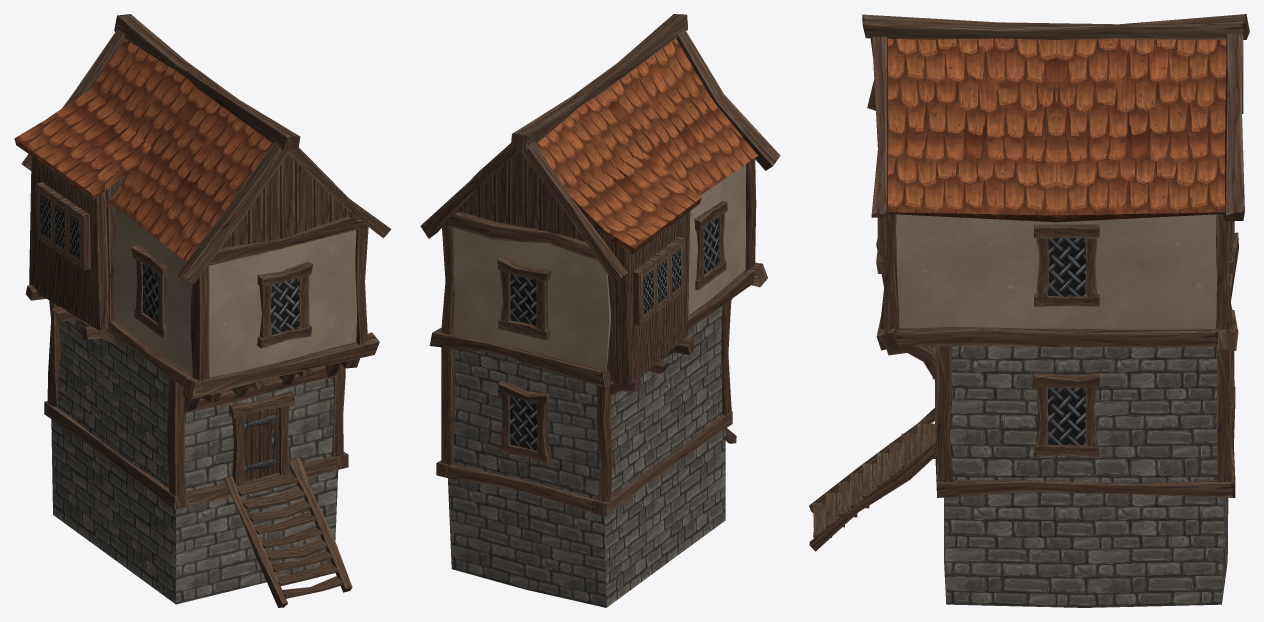
The model's file is watermill_01.fbx.
3 views of the same model, side by side, from view 1: azimuth 30°, elevation 25°; view 2: azimuth 150°, elevation 25°; view 3: azimuth 270°, elevation 25° (orthographic). The views are drawn at different scales.
Visible parts, largest first — view 1: watermill_01; view 2: watermill_01; view 3: watermill_01.
Boxes of the visible parts, <box> form: watermill_01: <box>14,14,391,607</box>; watermill_01: <box>420,14,780,607</box>; watermill_01: <box>809,14,1249,607</box>.
Size of the model in its own units: 451 by 940 by 691.
